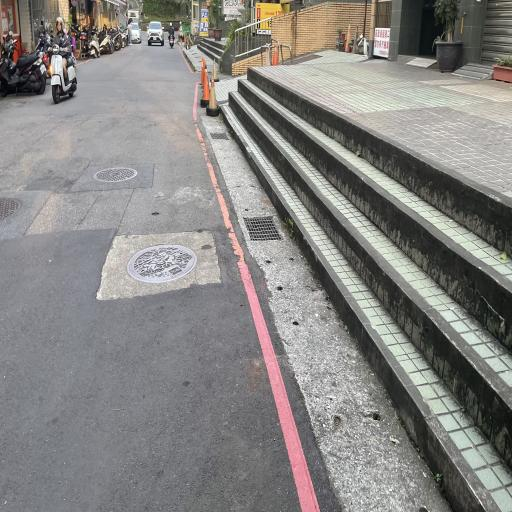car: (146, 17, 166, 48)
redline: (193, 79, 322, 512), (176, 39, 200, 78)
